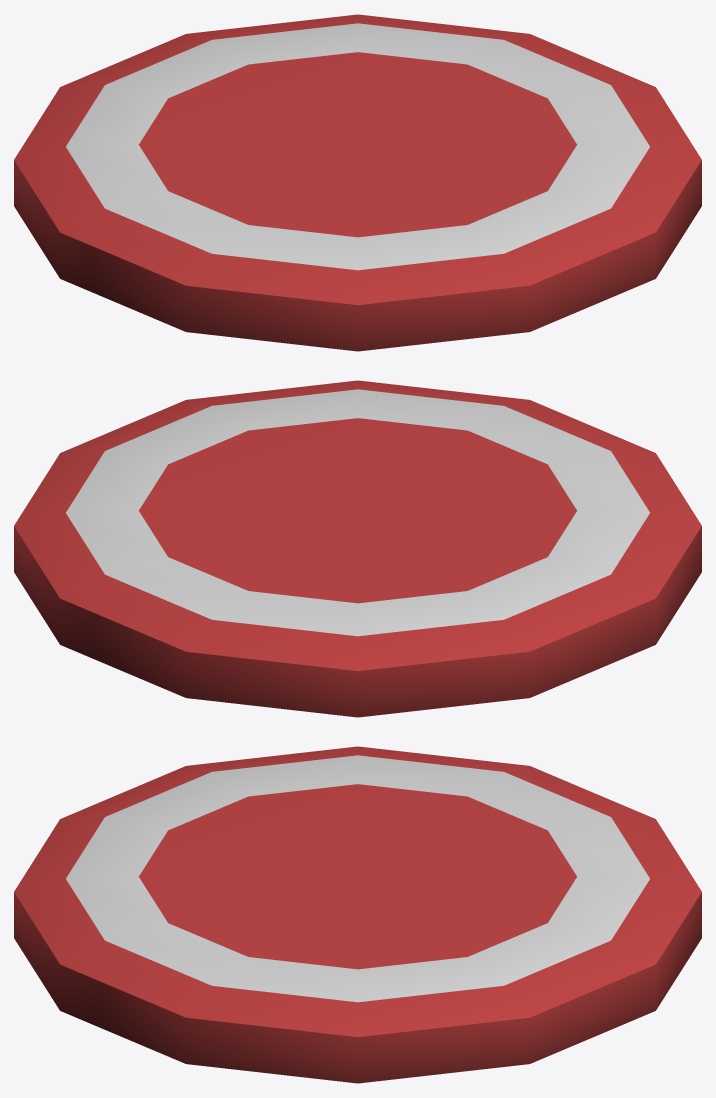
File: human-sports-frisbee_v1.glb
3 views of the same model, one above another, from view 1: azimuth 30°, elevation 25°; view 2: azimuth 150°, elevation 25°; view 3: azimuth 270°, elevation 25° (orthographic).
Visible parts, largest first — view 1: Frisbee; view 2: Frisbee; view 3: Frisbee.
Boxes of the visible parts, bbox=[...] form: Frisbee: bbox=[14, 14, 701, 351]; Frisbee: bbox=[14, 380, 701, 717]; Frisbee: bbox=[14, 746, 701, 1083].
Size of the model in its own units: 0.27 by 0.0266 by 0.27.
